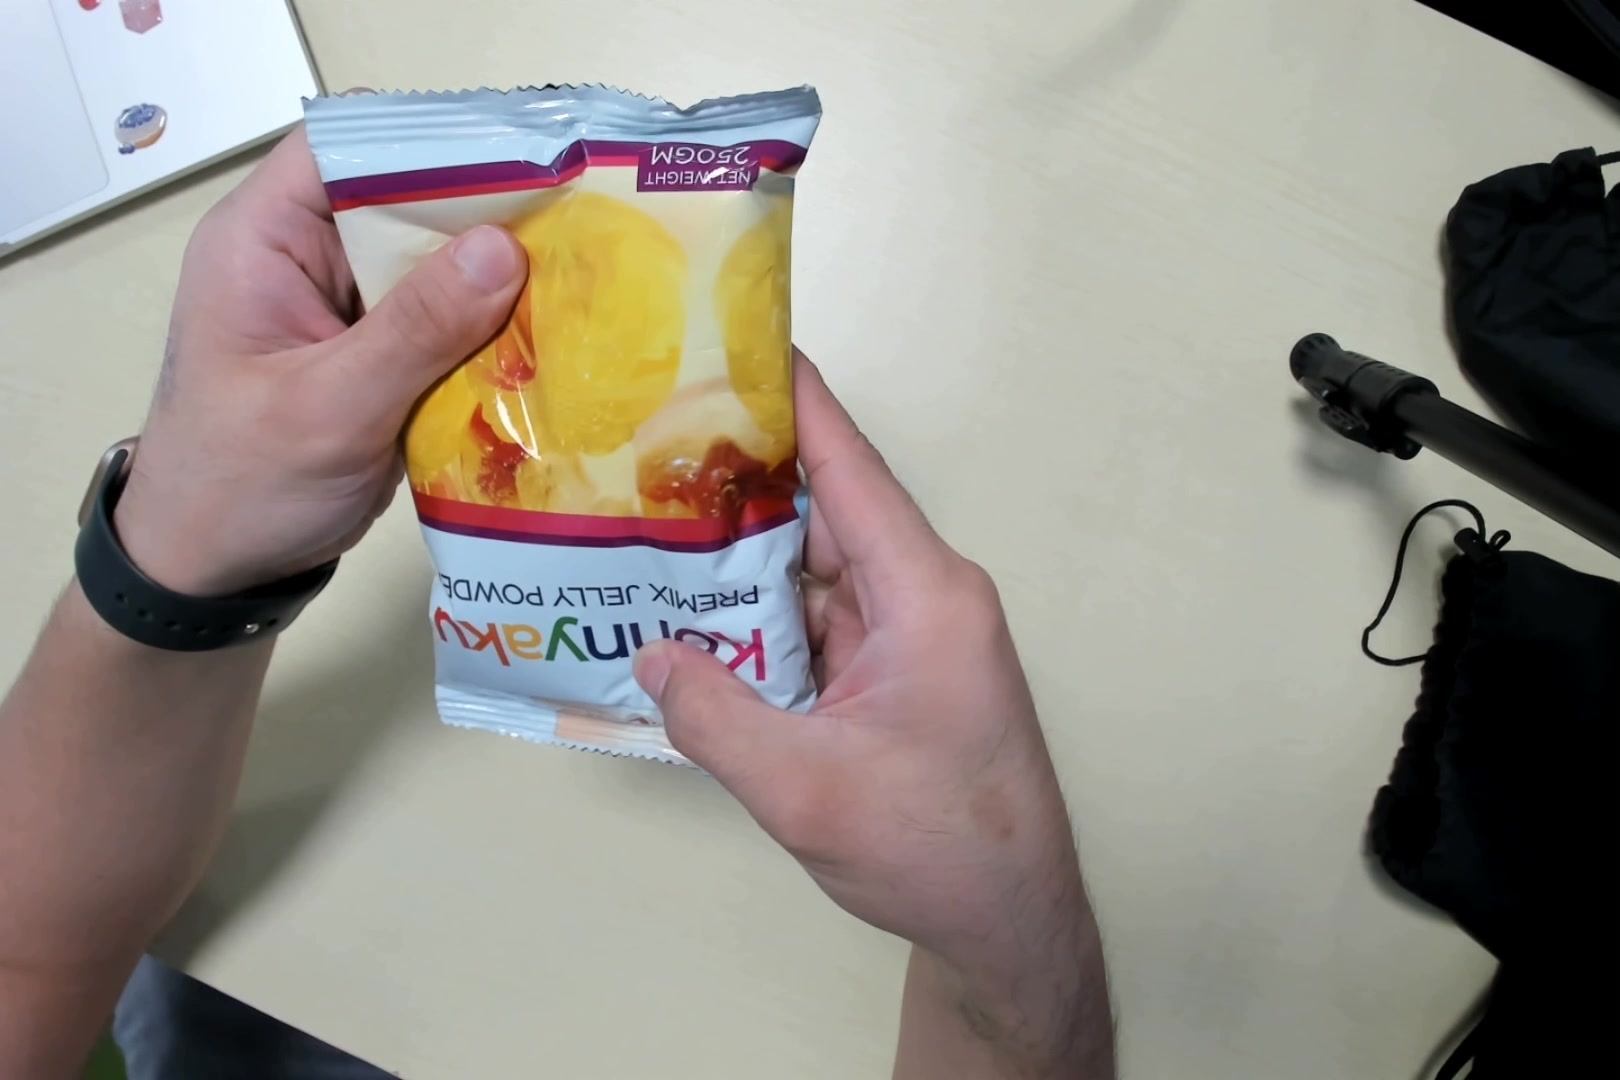OtherBakingNeeds_200-299g_Halal_NonHealthy: (309, 94, 818, 756)
